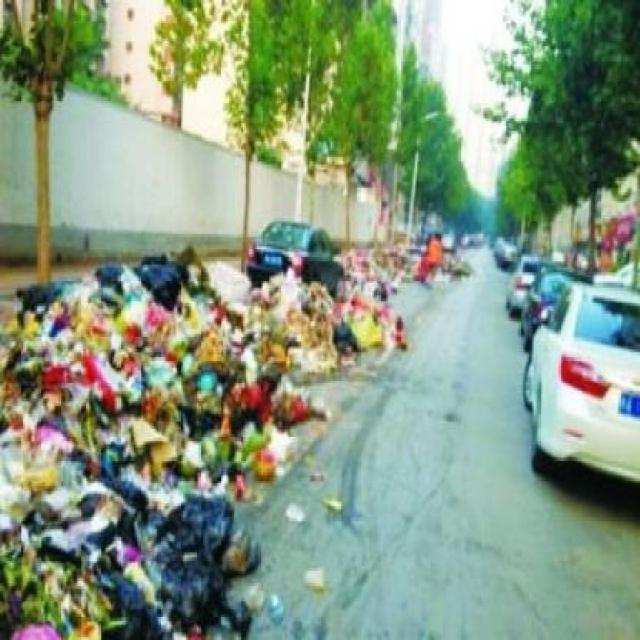garbage: (2, 285, 232, 624), (140, 265, 384, 358), (219, 329, 305, 483)
